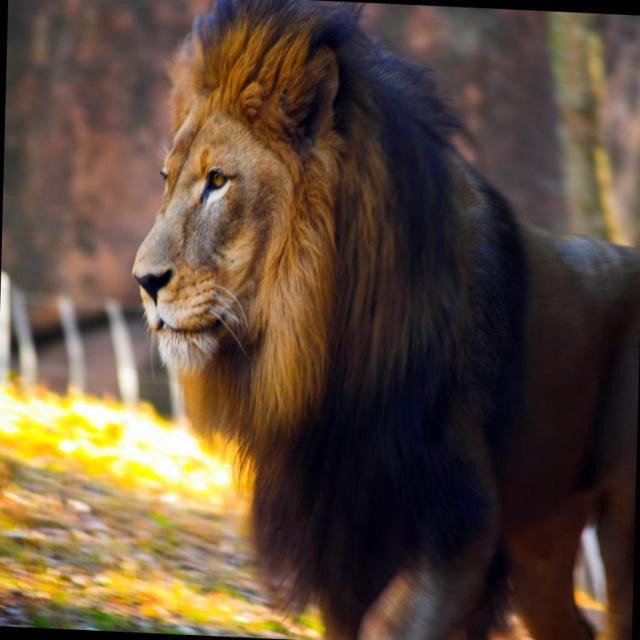Lion: (122, 0, 639, 639)
